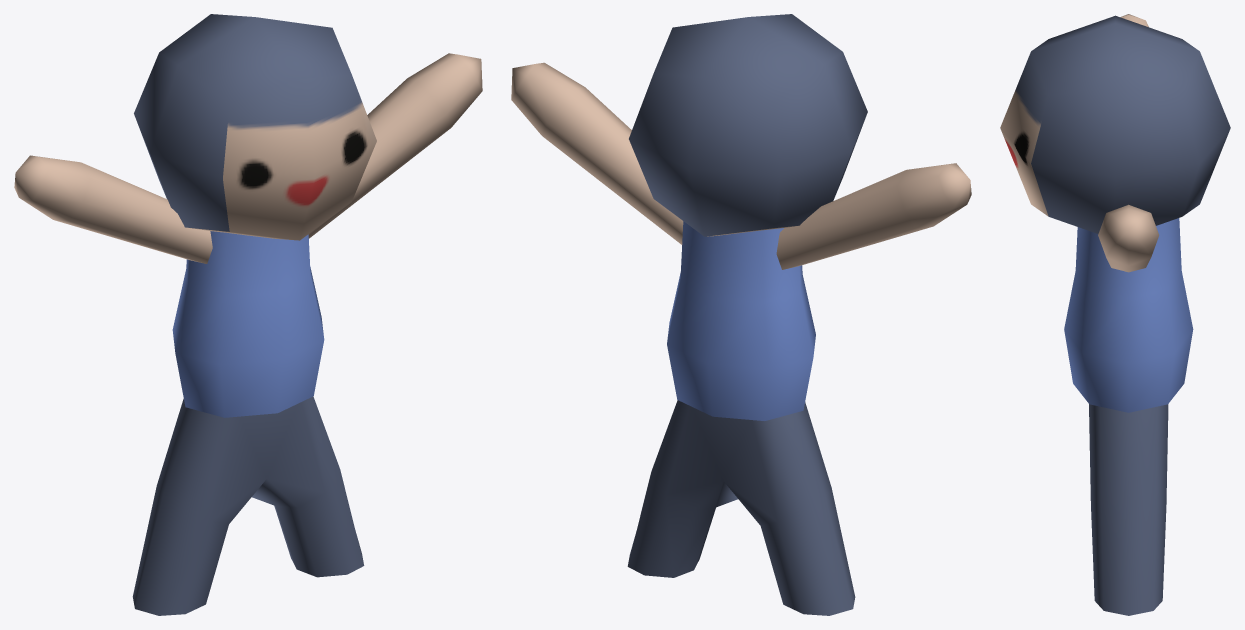
File: Human.fbx
The picture shows the model from 3 angles, left to right: view 1: azimuth 30°, elevation 25°; view 2: azimuth 150°, elevation 25°; view 3: azimuth 270°, elevation 25°; orthographic projection. The views are drawn at different scales.
Parts seen in each view (by area): view 1: Human; view 2: Human; view 3: Human.
Boxes of the visible parts, x1,y1,x2,y2 form: Human: (14, 14, 482, 615); Human: (511, 14, 971, 615); Human: (1000, 14, 1230, 615).
Bounding box in the file's own units: 369 × 431 × 167.
Materials: 1 (1 with a texture image).
